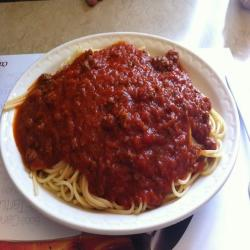bolonese_pasta: (18, 42, 230, 212)
